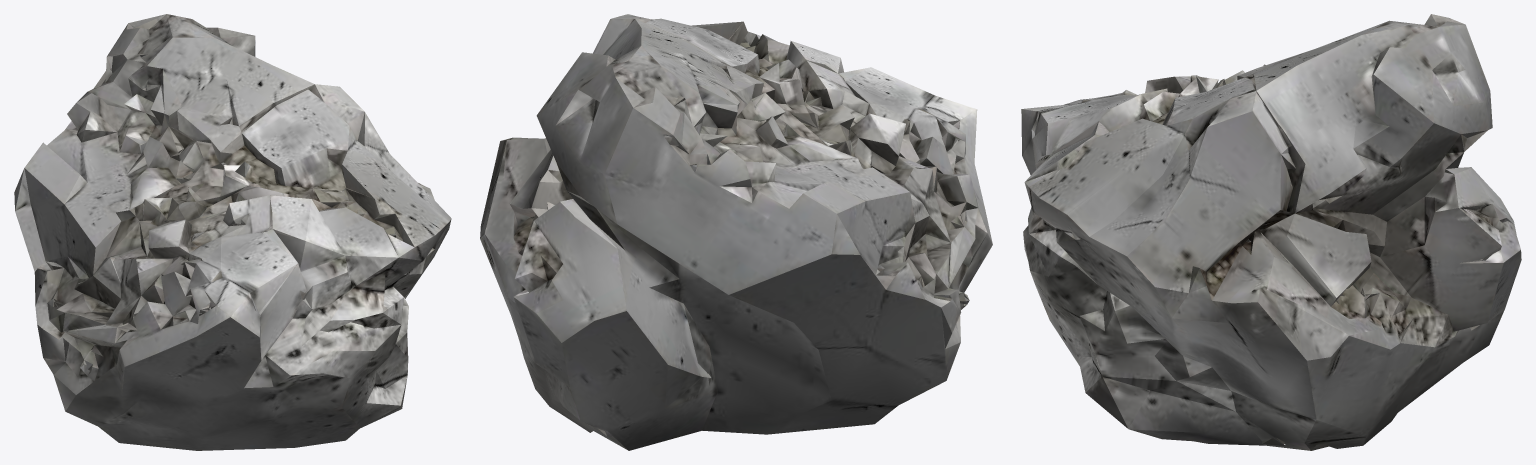
The model's file is debris_concrete_a.glb.
3 renders of one model, left to right at view 1: azimuth 30°, elevation 25°; view 2: azimuth 150°, elevation 25°; view 3: azimuth 270°, elevation 25°, orthographic. The views are drawn at different scales.
Visible parts, largest first — view 1: debris_concrete_a; view 2: debris_concrete_a; view 3: debris_concrete_a.
Boxes of the visible parts, bbox=[...] form: debris_concrete_a: bbox=[14, 14, 451, 450]; debris_concrete_a: bbox=[480, 14, 992, 450]; debris_concrete_a: bbox=[1021, 14, 1521, 450].
Bounding box in the file's own units: 2 × 1.65 × 2.
1 material, 1 textured.
